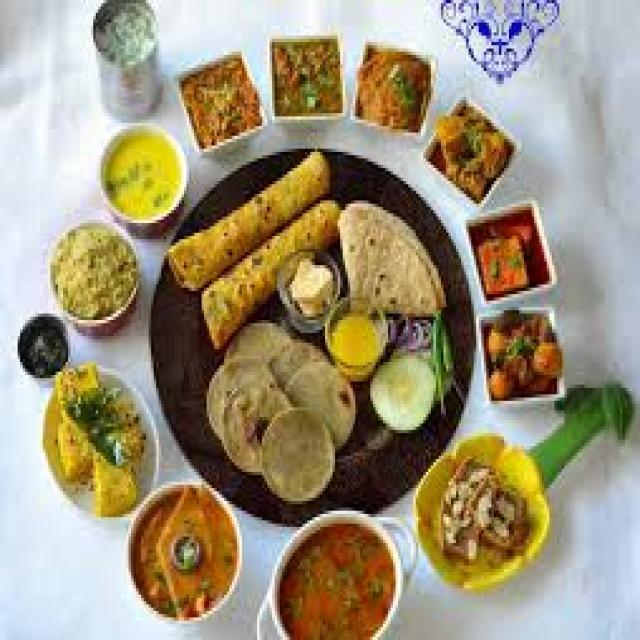dal: (318, 299, 393, 375)
pickle: (425, 93, 519, 204), (467, 200, 550, 307), (349, 43, 441, 137), (266, 35, 350, 133)
roti: (334, 200, 452, 326)
veg-fry: (35, 357, 157, 514), (121, 480, 248, 619), (264, 516, 406, 640), (466, 201, 554, 308), (173, 55, 269, 153)
